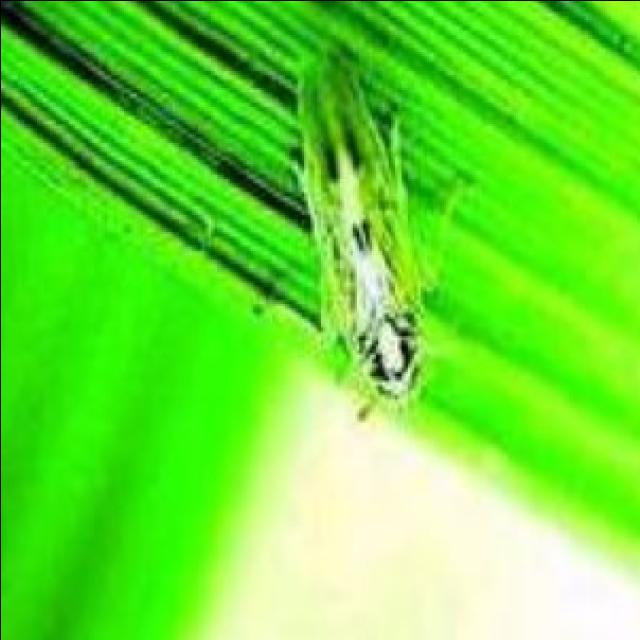brown plant hopper: (299, 42, 432, 424)
